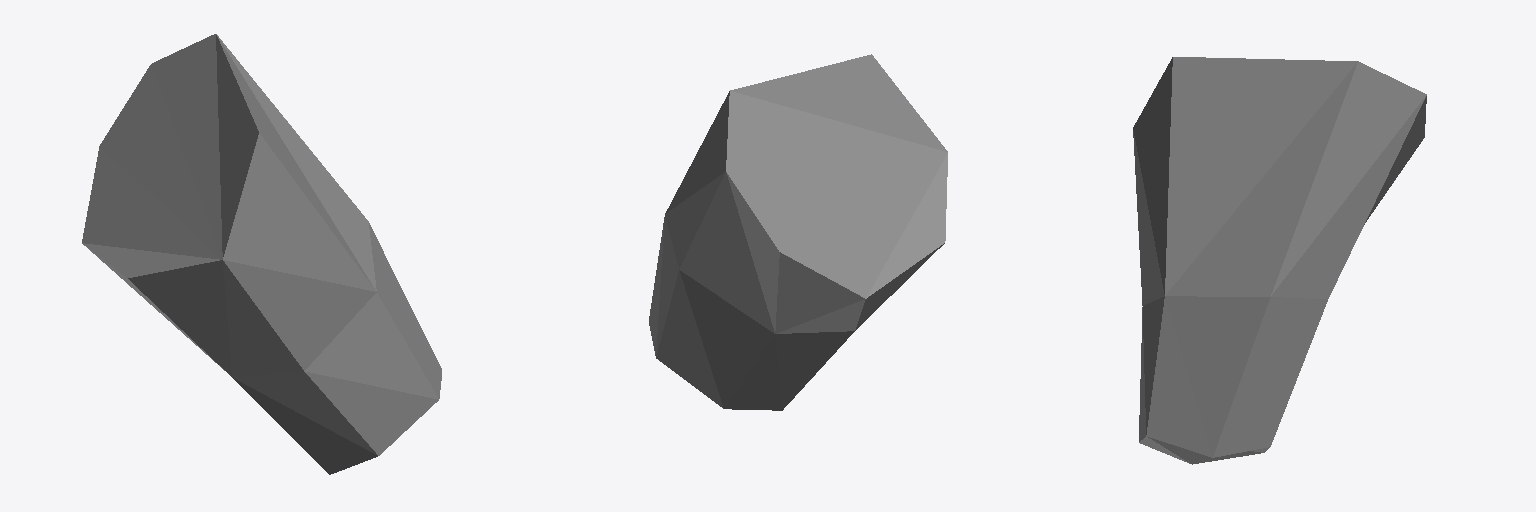
Rendered from CodoDere.obj.
3 renders of one model, left to right at view 1: azimuth 30°, elevation 25°; view 2: azimuth 150°, elevation 25°; view 3: azimuth 270°, elevation 25°, orthographic.
Parts seen in each view (by area): view 1: CodoDere; view 2: CodoDere; view 3: CodoDere.
Part boxes in pixels (left/top/right/bottom): CodoDere: left=82, top=34, right=441, bottom=474; CodoDere: left=649, top=54, right=947, bottom=410; CodoDere: left=1133, top=57, right=1426, bottom=464.
Bounding box in the file's own units: 5.99 × 7.27 × 4.99.